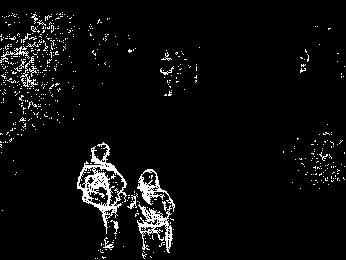person: (80, 142, 127, 256), (132, 167, 179, 260)
